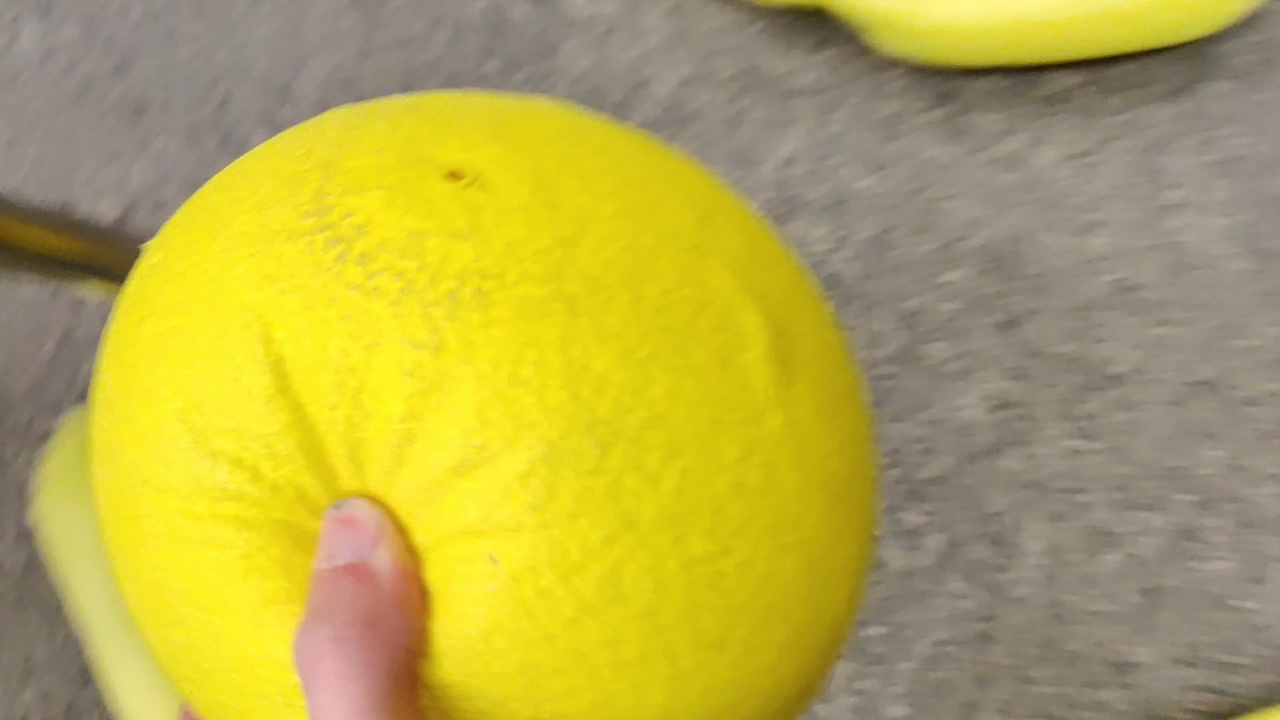Ball: (90, 96, 882, 720)
